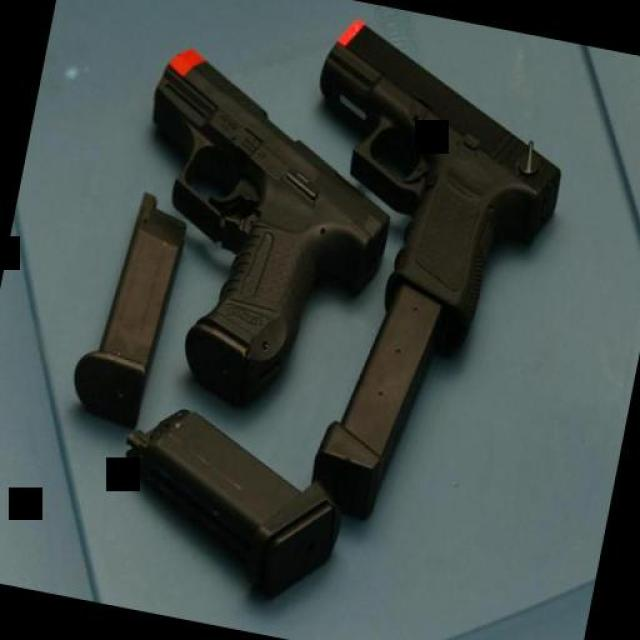gun: (94, 38, 418, 432), (268, 9, 588, 378)
